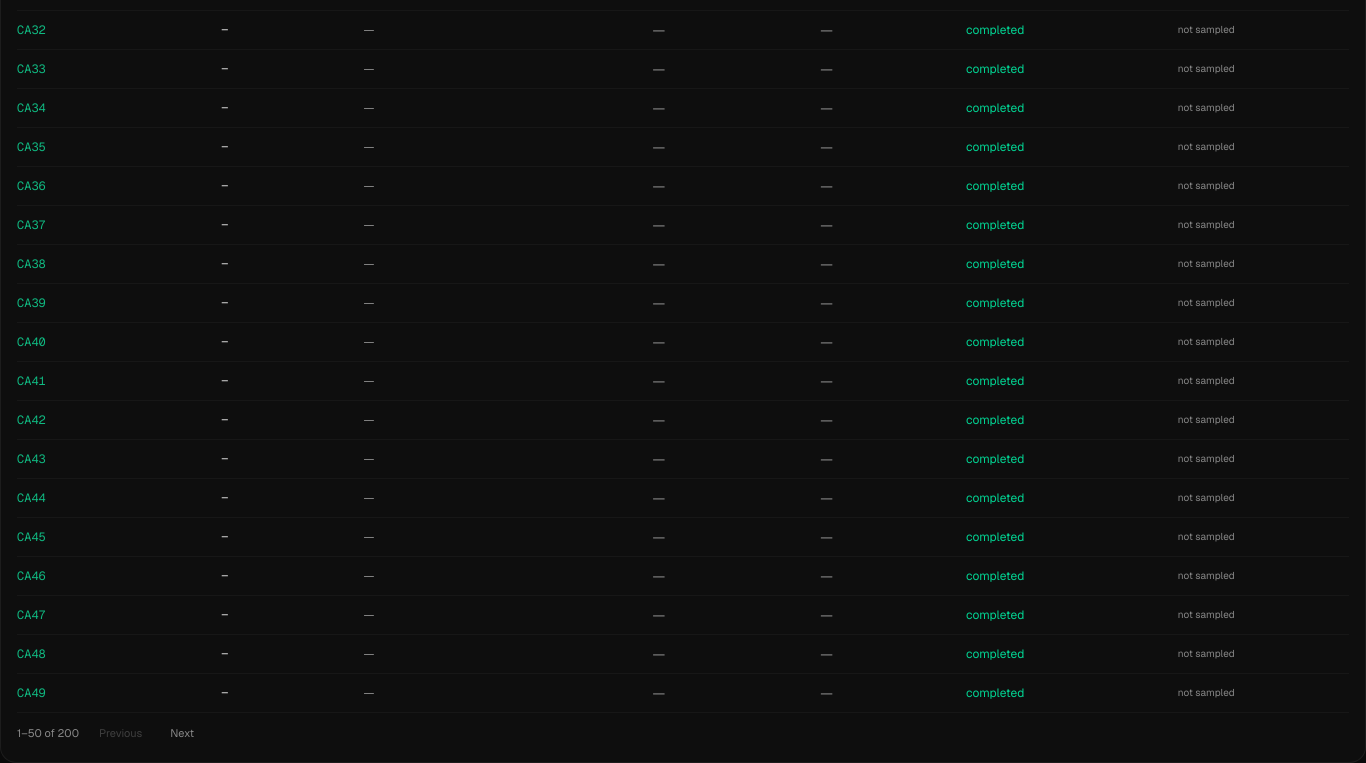
Test: calls pagination › pages forward within the current filters
This screenshot has width=1366, height=763.
(page scrolled)
Step 1. Click the button "Next" → (182, 733), box x1=162 y1=721 x2=202 y2=746
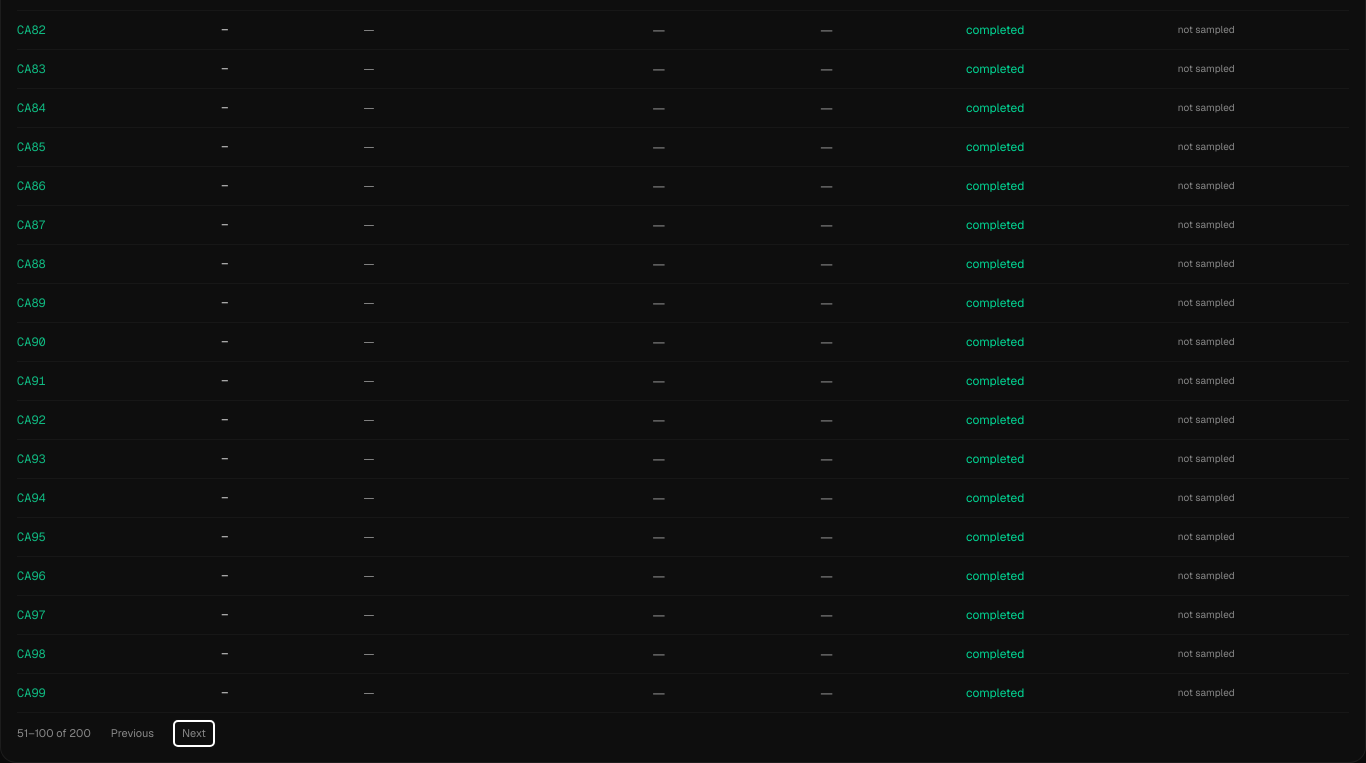
Expected: the text "51–100 of 200" is shown, x1=17 y1=725 x2=91 y2=742
